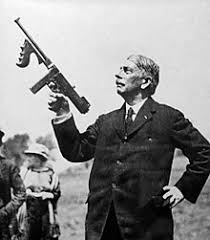Gun: (13, 15, 81, 98)
